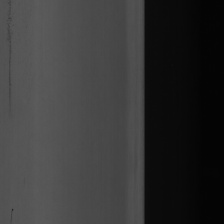inclusion: (5, 4, 13, 107), (8, 203, 15, 224)
